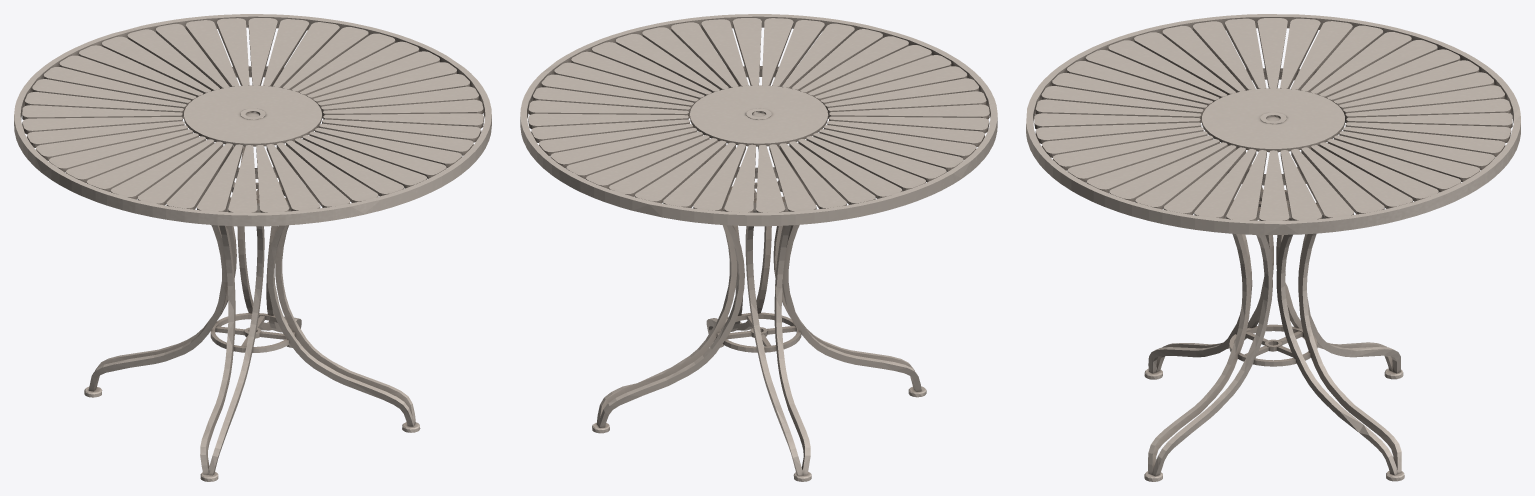
3 views of the same model, side by side, from view 1: azimuth 30°, elevation 25°; view 2: azimuth 150°, elevation 25°; view 3: azimuth 270°, elevation 25° (orthographic). The views are drawn at different scales.
Visible parts, largest first — view 1: raw_model.obj; view 2: raw_model.obj; view 3: raw_model.obj.
Boxes of the visible parts, x1=… form: raw_model.obj: x1=14, y1=14, x2=491, y2=481; raw_model.obj: x1=520, y1=14, x2=997, y2=481; raw_model.obj: x1=1026, y1=14, x2=1520, y2=481.
Size of the model in its own units: 1.01 by 0.6959 by 1.01.
Materials: 1 (1 with a texture image).
